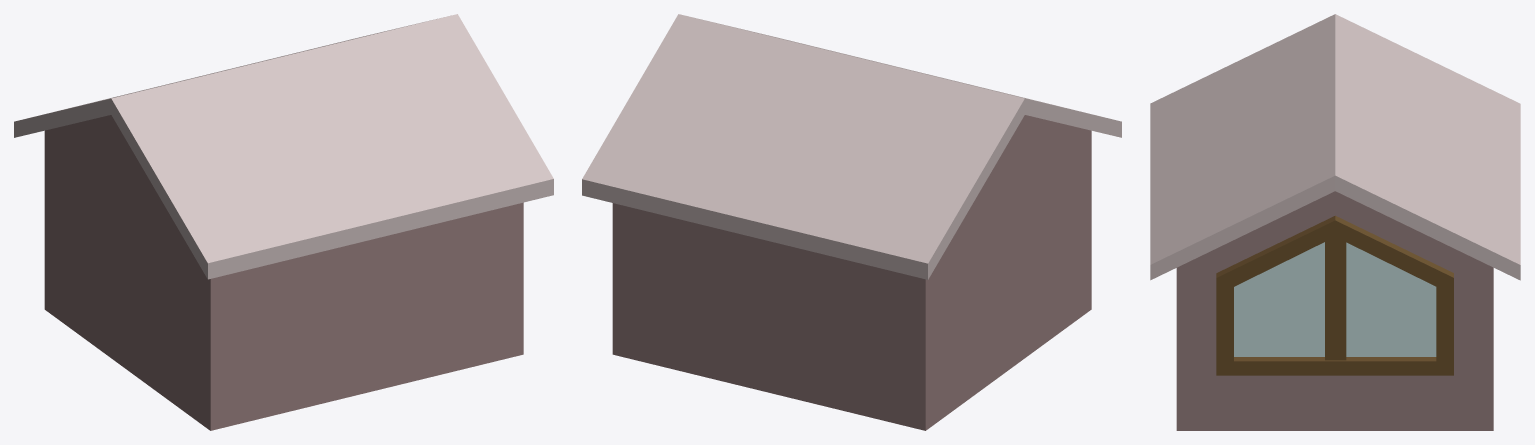
The model's file is roof_window_2_1.fbx.
The picture shows the model from 3 angles, left to right: view 1: azimuth 30°, elevation 25°; view 2: azimuth 150°, elevation 25°; view 3: azimuth 270°, elevation 25°; orthographic projection. The views are drawn at different scales.
Visible parts, largest first — view 1: roof_window_2_1; view 2: roof_window_2_1; view 3: roof_window_2_1.
Boxes of the visible parts, <box> form: roof_window_2_1: <box>14,14,553,430</box>; roof_window_2_1: <box>582,14,1121,430</box>; roof_window_2_1: <box>1150,14,1520,430</box>.
Bounding box in the file's own units: 361 × 274 × 349.
